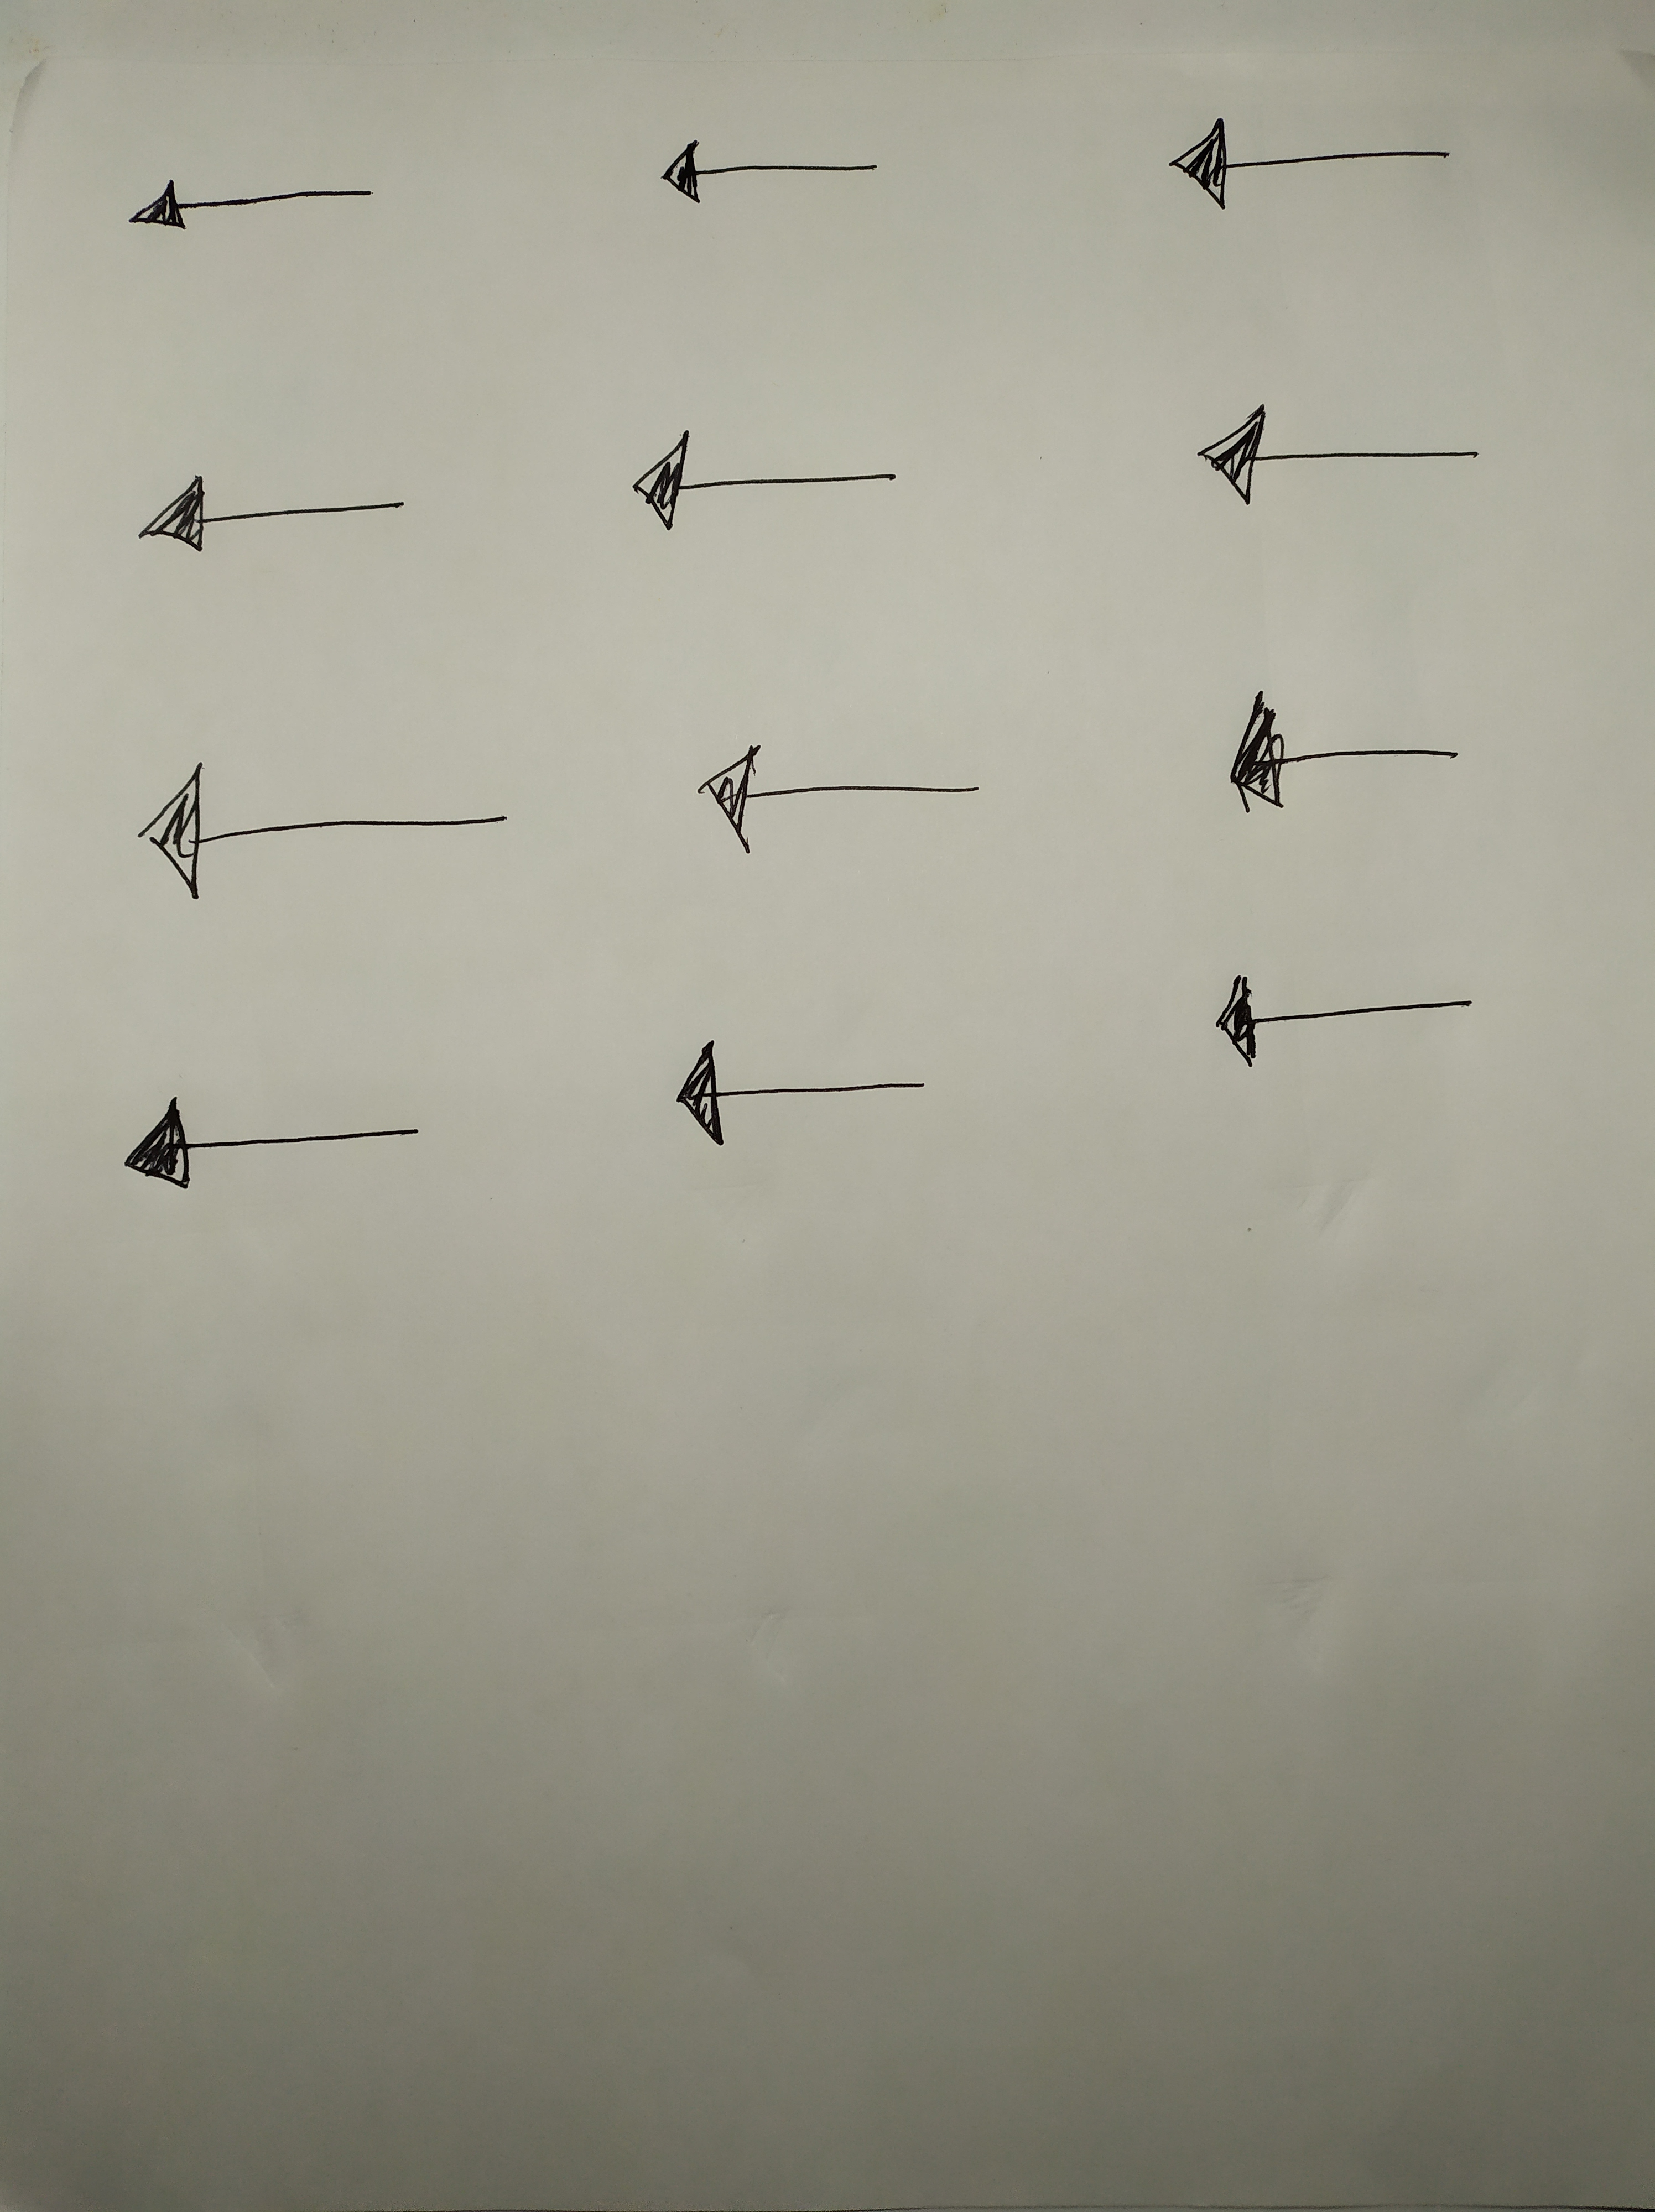arrow_line_left: (99, 749, 558, 914), (614, 1022, 1000, 1173), (1177, 683, 1547, 827), (650, 730, 1027, 867), (96, 1072, 454, 1213), (1147, 393, 1532, 521), (1175, 950, 1516, 1077), (1137, 101, 1500, 217), (89, 459, 466, 568), (595, 414, 911, 535), (622, 125, 918, 217), (103, 163, 400, 240)
